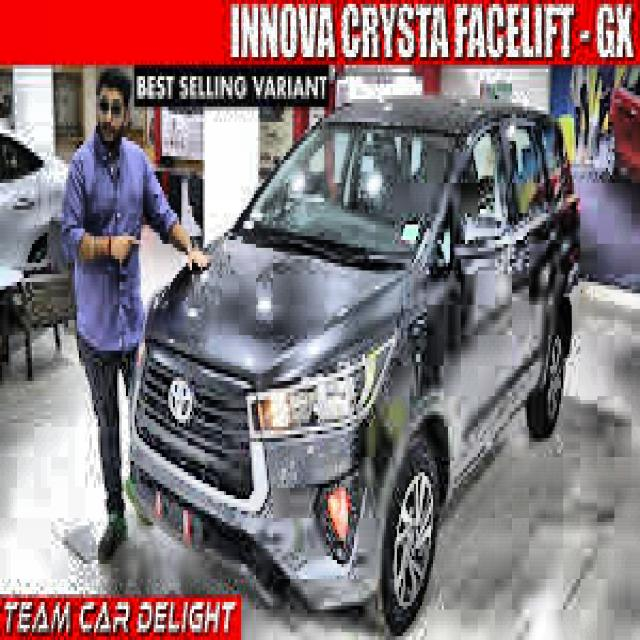light_vehicle: (128, 91, 580, 640)
